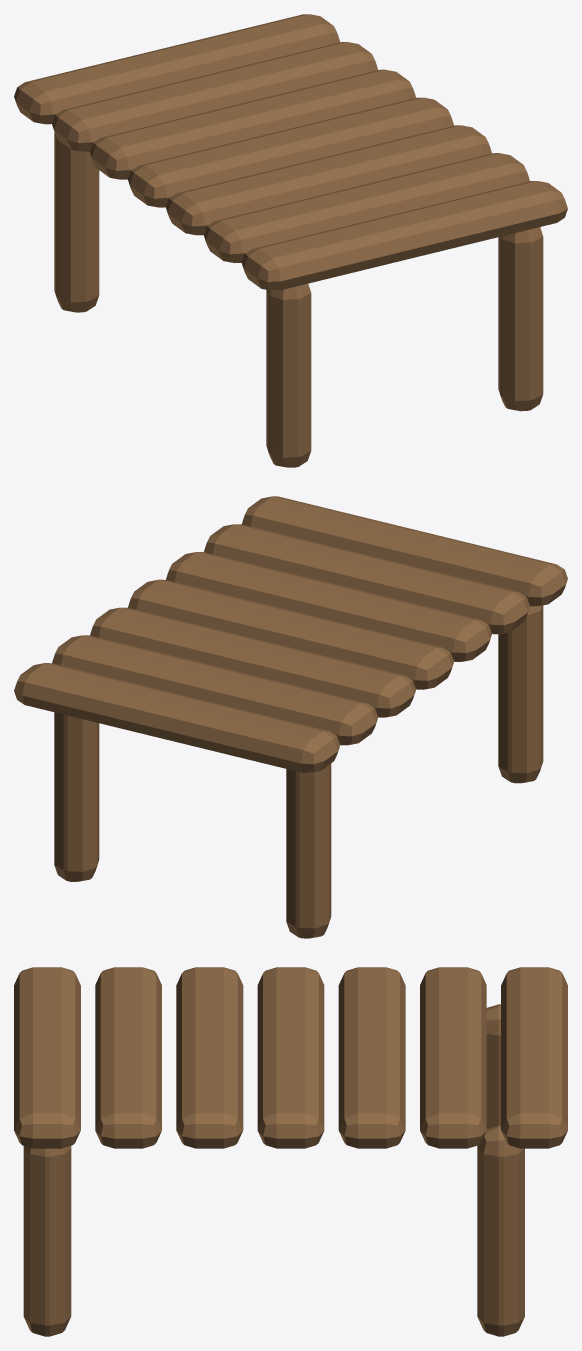
File: BeachLounger.fbx
3 views of the same model, one above another, from view 1: azimuth 30°, elevation 25°; view 2: azimuth 150°, elevation 25°; view 3: azimuth 270°, elevation 25° (orthographic). The views are drawn at different scales.
Parts seen in each view (by area): view 1: Lounger_Slat, Lounger_Slat.002, Lounger_Slat.003, Lounger_Slat.004, Lounger_Slat.006, Lounger_Slat.001, Lounger_Slat.005, Lounger_Leg, Lounger_Leg.002, Lounger_Leg.001; view 2: Lounger_Slat.006, Lounger_Slat.005, Lounger_Slat.004, Lounger_Slat.003, Lounger_Slat, Lounger_Slat.001, Lounger_Slat.002, Lounger_Leg.001, Lounger_Leg.003, Lounger_Leg; view 3: Lounger_Slat.002, Lounger_Slat.003, Lounger_Slat.004, Lounger_Slat, Lounger_Slat.006, Lounger_Slat.001, Lounger_Slat.005, Lounger_Leg.003, Lounger_Leg.002, Lounger_Leg.001.
Boxes of the visible parts, left/top/right/bottom form: Lounger_Slat: left=242, top=181, right=567, bottom=290; Lounger_Slat.002: left=166, top=125, right=491, bottom=235; Lounger_Slat.003: left=128, top=97, right=453, bottom=207; Lounger_Slat.004: left=90, top=69, right=415, bottom=179; Lounger_Slat.006: left=14, top=14, right=339, bottom=124; Lounger_Slat.001: left=204, top=153, right=529, bottom=263; Lounger_Slat.005: left=52, top=42, right=377, bottom=151; Lounger_Leg: left=266, top=283, right=311, bottom=467; Lounger_Leg.002: left=498, top=227, right=543, bottom=411; Lounger_Leg.001: left=54, top=132, right=99, bottom=312; Lounger_Slat.006: left=14, top=663, right=340, bottom=773; Lounger_Slat.005: left=52, top=635, right=377, bottom=745; Lounger_Slat.004: left=90, top=607, right=415, bottom=717; Lounger_Slat.003: left=128, top=579, right=453, bottom=689; Lounger_Slat: left=241, top=496, right=567, bottom=606; Lounger_Slat.001: left=204, top=524, right=529, bottom=634; Lounger_Slat.002: left=166, top=552, right=491, bottom=661; Lounger_Leg.001: left=286, top=763, right=331, bottom=938; Lounger_Leg.003: left=54, top=712, right=99, bottom=881; Lounger_Leg: left=498, top=605, right=543, bottom=783; Lounger_Slat.002: left=176, top=967, right=243, bottom=1148; Lounger_Slat.003: left=257, top=967, right=324, bottom=1148; Lounger_Slat.004: left=338, top=967, right=405, bottom=1148; Lounger_Slat: left=14, top=967, right=80, bottom=1148; Lounger_Slat.006: left=501, top=967, right=567, bottom=1148; Lounger_Slat.001: left=95, top=967, right=161, bottom=1148; Lounger_Slat.005: left=420, top=967, right=486, bottom=1148; Lounger_Leg.003: left=477, top=1125, right=524, bottom=1336; Lounger_Leg.002: left=23, top=1146, right=71, bottom=1336; Lounger_Leg.001: left=486, top=1004, right=500, bottom=1128.
Bounding box in the file's own units: 80 × 54 × 116.
